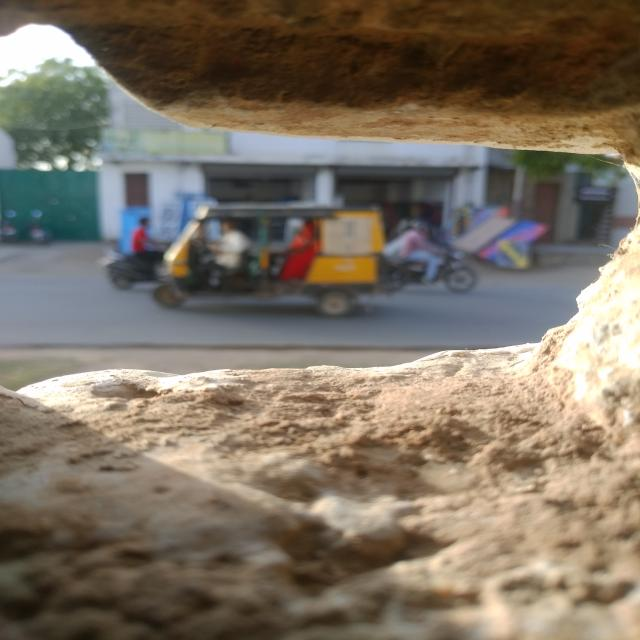Bike: (382, 232, 488, 294), (106, 232, 184, 289)
tempo: (154, 202, 409, 325)
